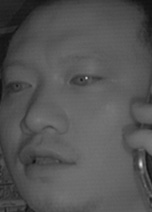eye: (69, 68, 104, 91), (3, 73, 36, 97)
mouth: (15, 140, 78, 181)
